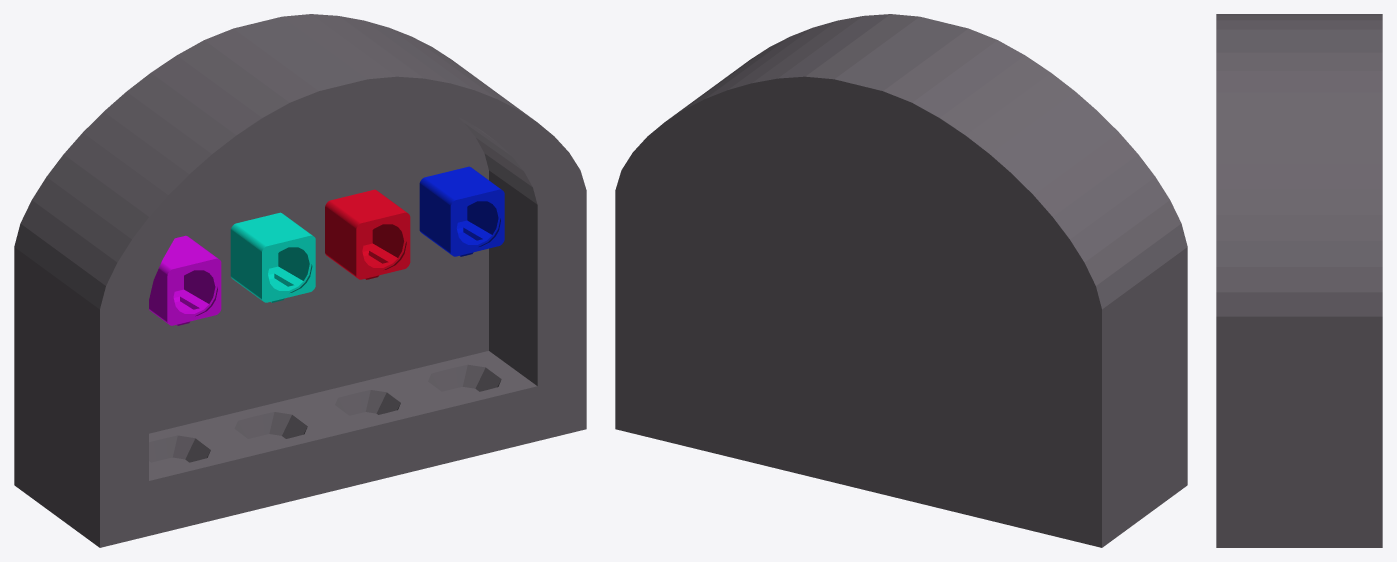
The model's file is SodaMachine.fbx.
The picture shows the model from 3 angles, left to right: view 1: azimuth 30°, elevation 25°; view 2: azimuth 150°, elevation 25°; view 3: azimuth 270°, elevation 25°; orthographic projection. The views are drawn at different scales.
Parts seen in each view (by area): view 1: Cube.007, Cube.016, Cube.014, Cube.018, Cube.011; view 2: Cube.007; view 3: Cube.007.
Boxes of the visible parts, box(x1,y1,x2,y2) form: Cube.007: box(14, 14, 586, 547); Cube.016: box(325, 189, 410, 279); Cube.014: box(230, 212, 315, 302); Cube.018: box(419, 166, 504, 256); Cube.011: box(149, 235, 221, 325); Cube.007: box(615, 14, 1187, 547); Cube.007: box(1216, 14, 1382, 547).
Bounding box in the file's own units: 1805 × 1429 × 550.
